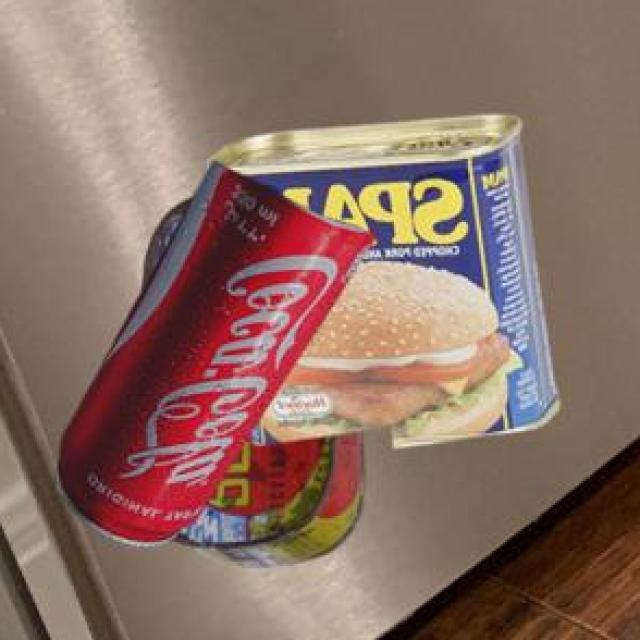logam: (60, 158, 378, 543), (212, 112, 563, 445), (148, 195, 367, 563)
